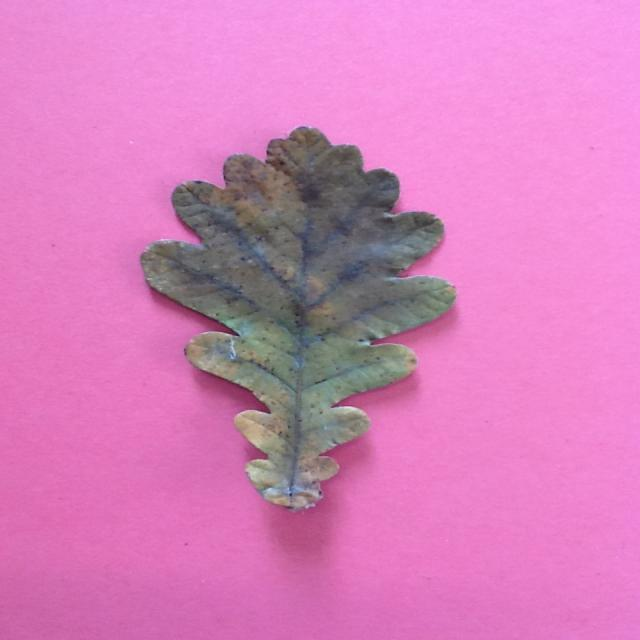foliage: (137, 122, 457, 518)
